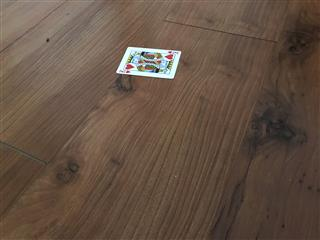KingOfHearts: (115, 45, 181, 79)
